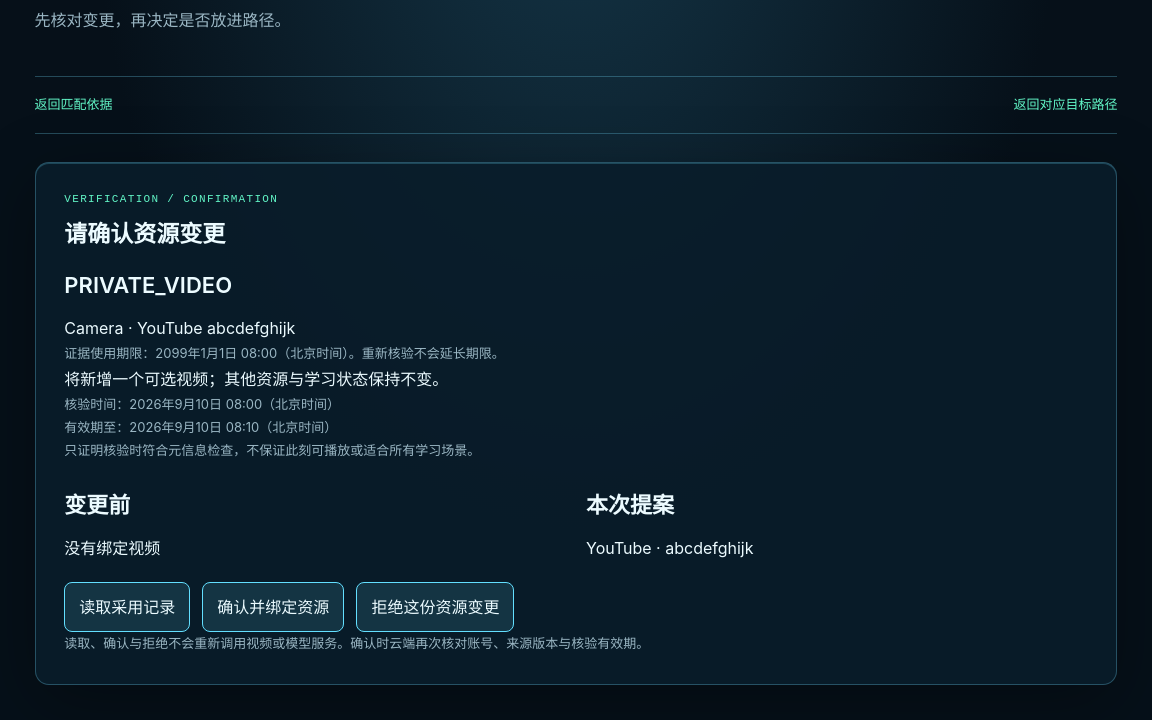
a cleared adoption receipt removes selected content and all confirmation controls
(page scrolled)
Step 1. Click the button "读取采用记录" → x=127, y=607, box [64,582,190,632]
(page scrolled)
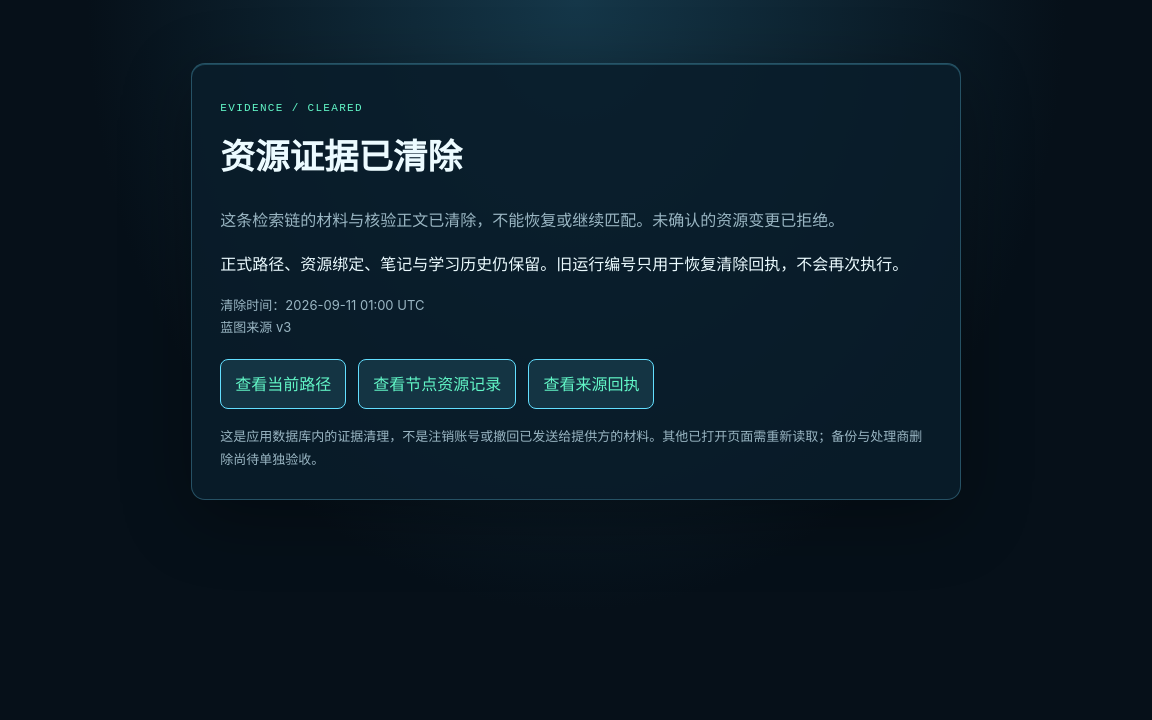
Check: the text "资源证据已清除" is shown, box [220,136,462,177]
Check: the text "PRIVATE_VIDEO" is gone
